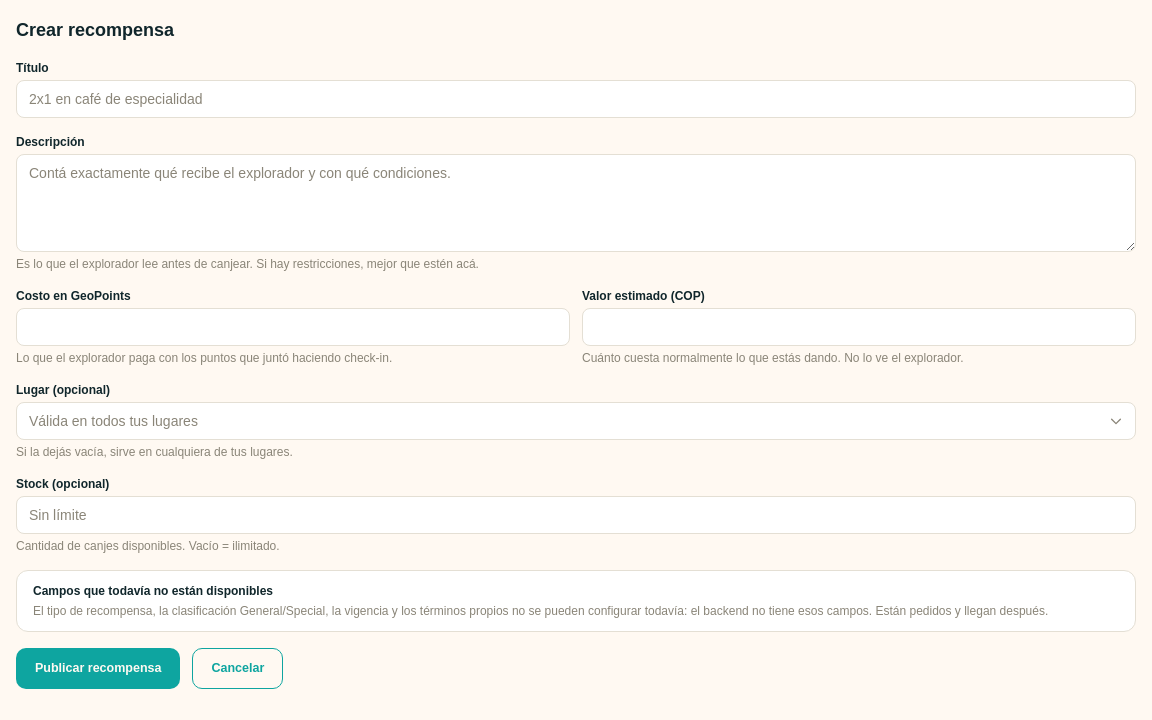
it: RewardForm › ofrece los lugares del negocio como opciones
What coordinates should you click on to do the following:
click the dropdown named "Lugar (opcional)"
I would click on:
 (113, 421)
Its box is [16,402,1136,440].
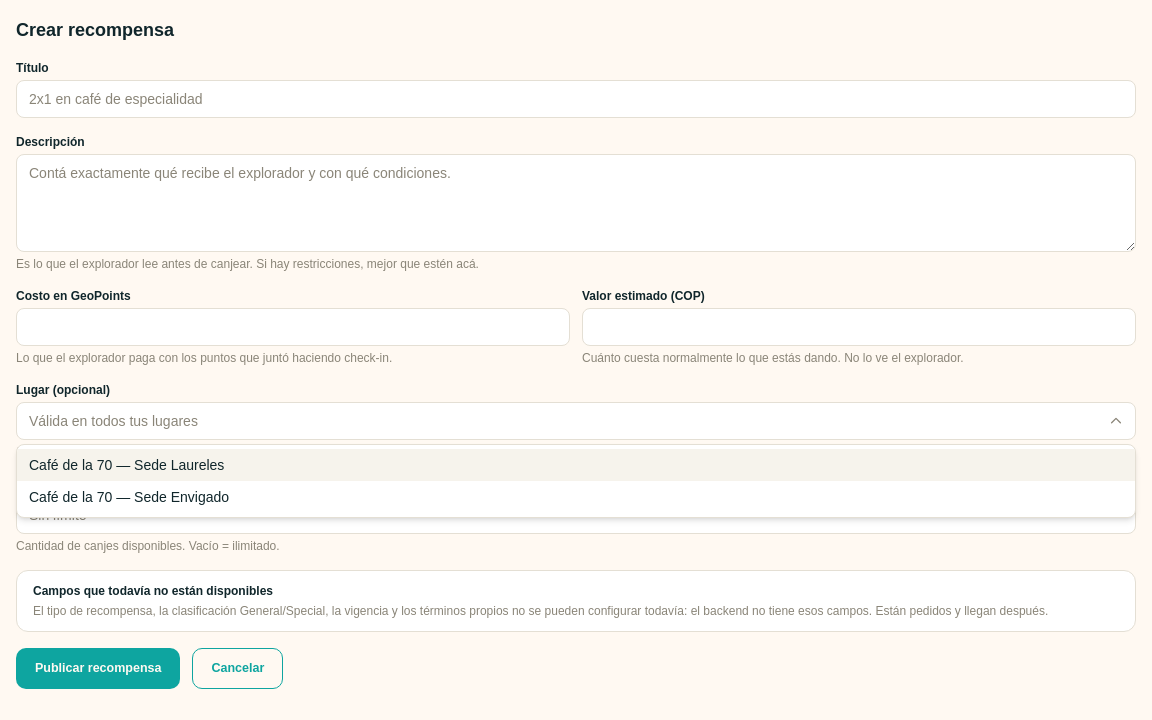
Expected: the option "Café de la 70 — Sede Laureles" is shown, [17,449,1135,481]
